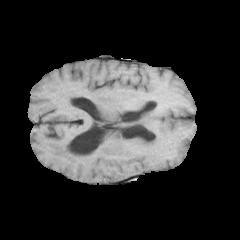glioma: (47, 113, 189, 167)
